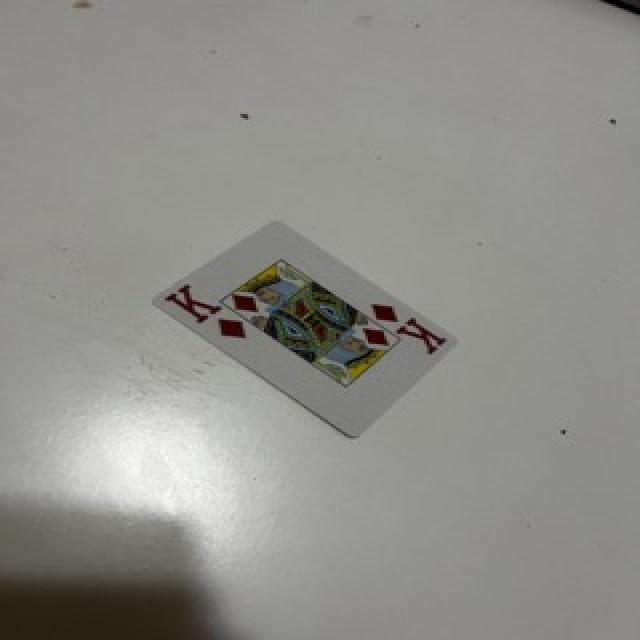King of diamonds: (155, 221, 455, 436)
